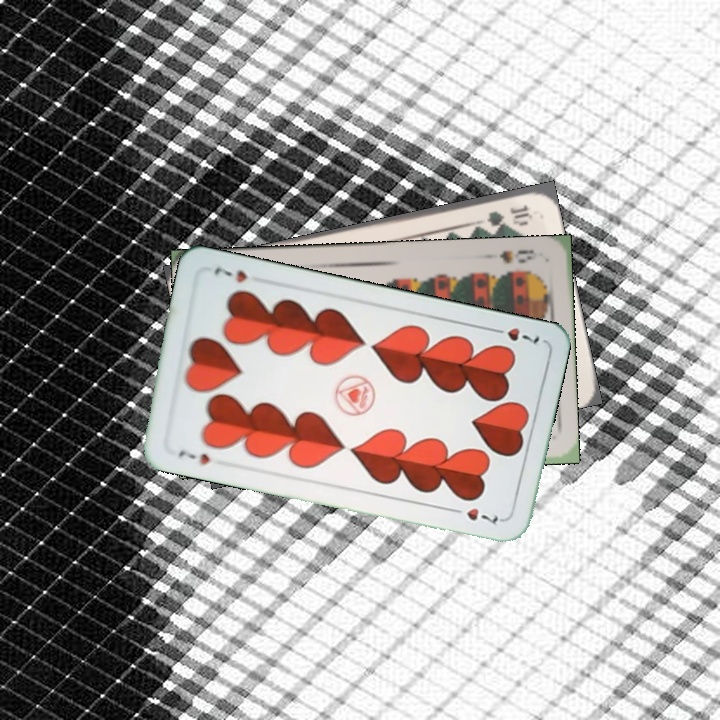G10: (482, 200, 535, 229)
H7: (486, 323, 542, 346), (174, 445, 213, 468)
S8: (495, 245, 545, 266)
